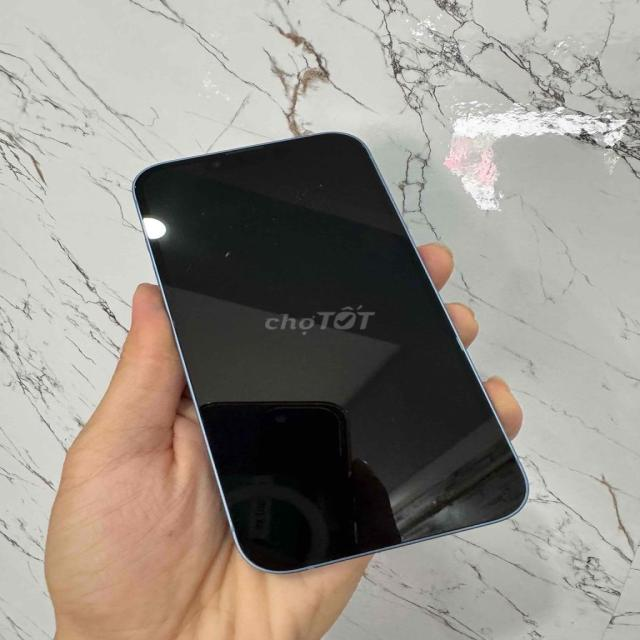gen_14: (120, 132, 538, 576)
